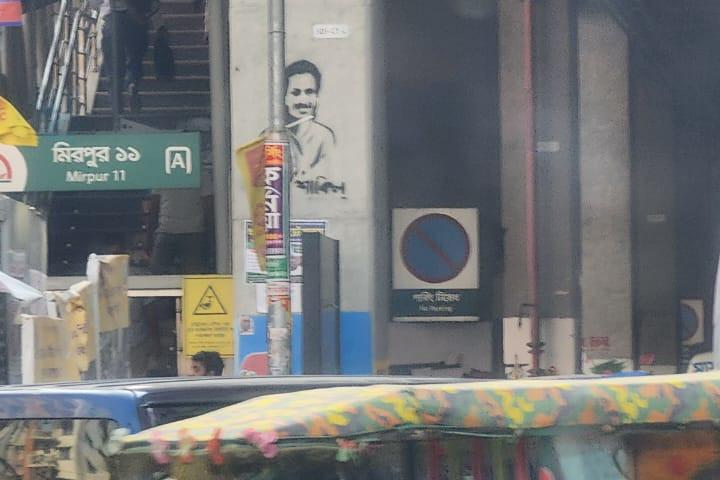No Parking: (389, 204, 484, 328)
